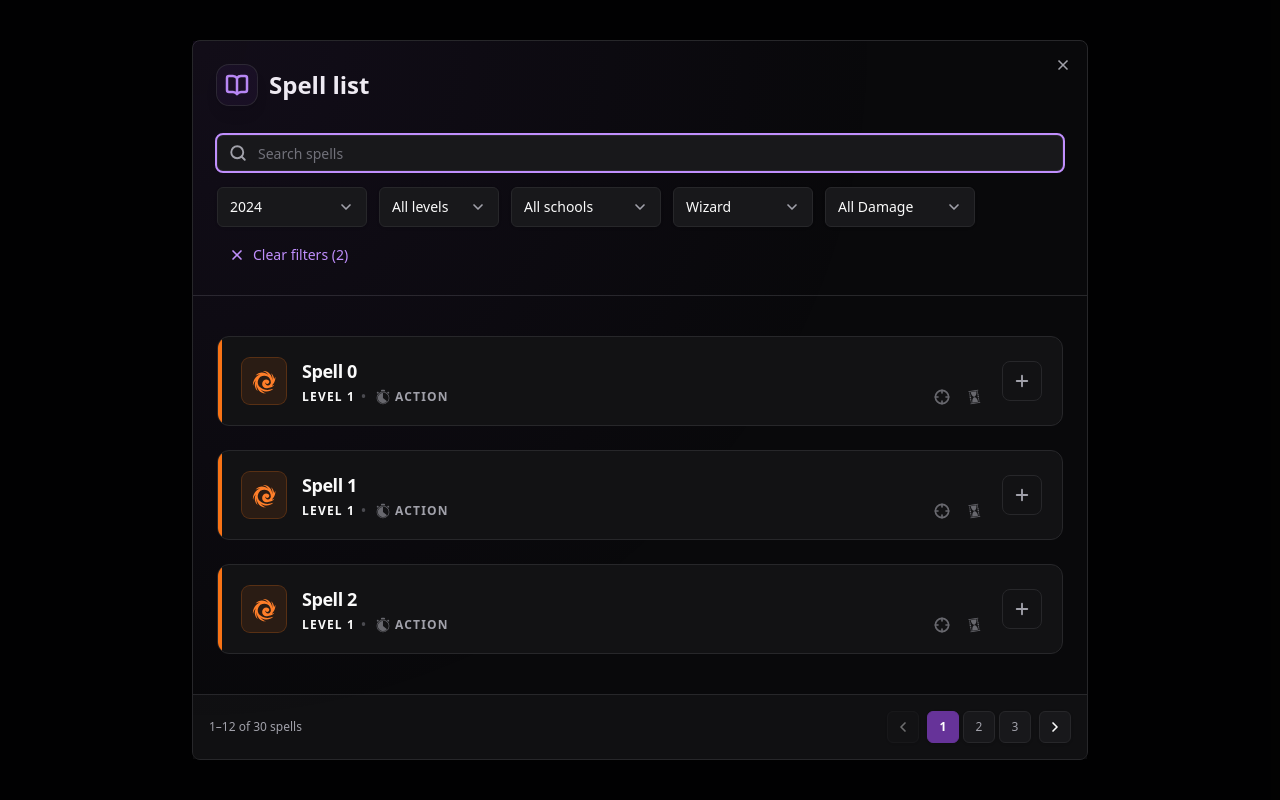
Test case: SpellSearchDialog › começa filtrando pela classe do personagem, e dá para limpar
Click the button "Clear filters (2)": (289, 255) [217,239,360,271]
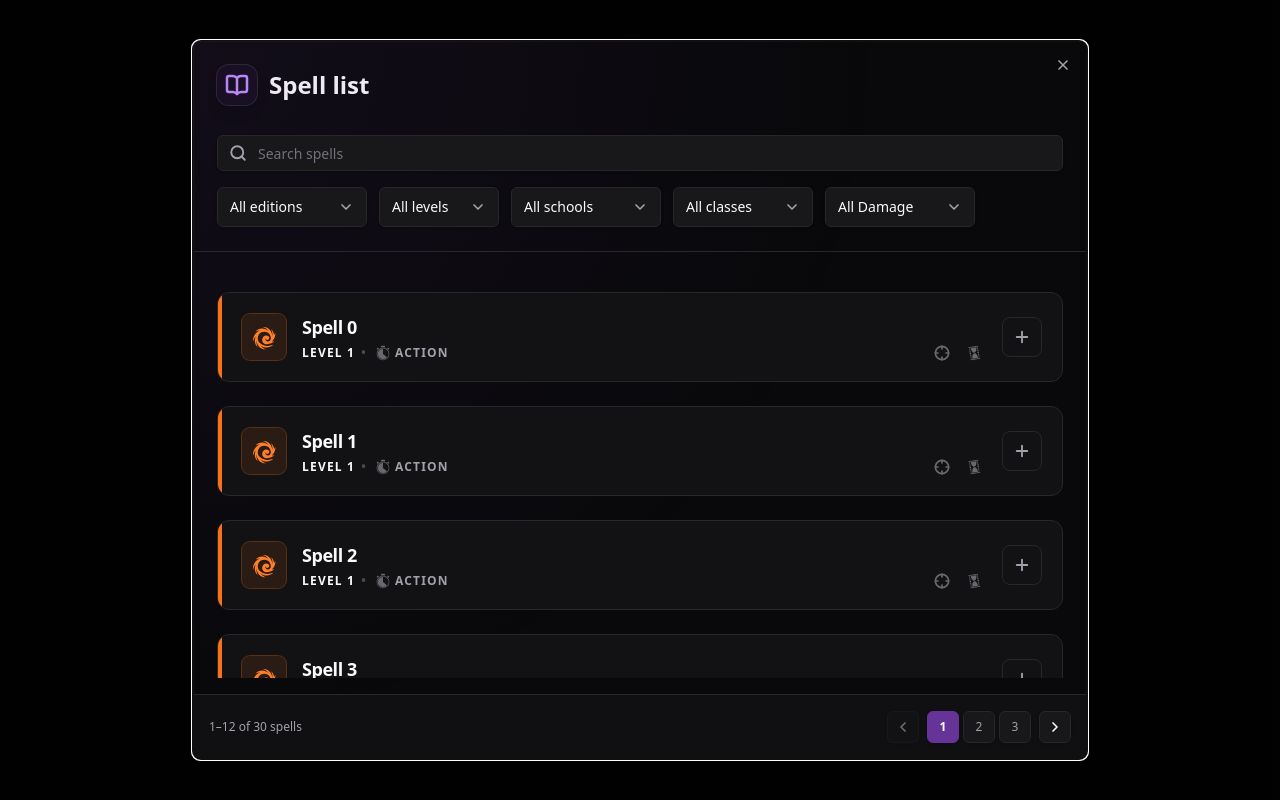
expect the button "Clear filters" is gone: met
